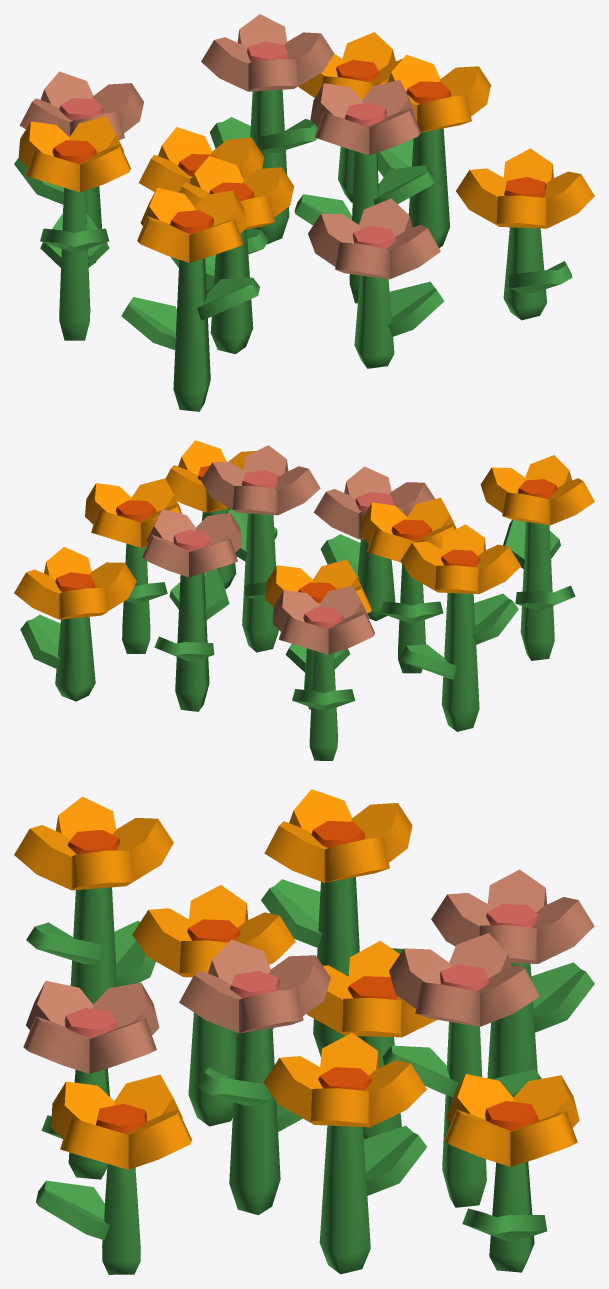
Rendered from flower-02.glb.
The picture shows the model from 3 angles, top to bottom: view 1: azimuth 30°, elevation 25°; view 2: azimuth 150°, elevation 25°; view 3: azimuth 270°, elevation 25°; orthographic projection. The views are drawn at different scales.
Visible parts, largest first — view 1: flower 02; view 2: flower 02; view 3: flower 02.
Part boxes in pixels (x1,y1,x2,y2): flower 02: (14, 14, 594, 411); flower 02: (14, 440, 594, 760); flower 02: (14, 789, 594, 1274).
Bounding box in the file's own units: 0.8951 × 0.3673 × 0.7958.
1 material, 1 textured.
